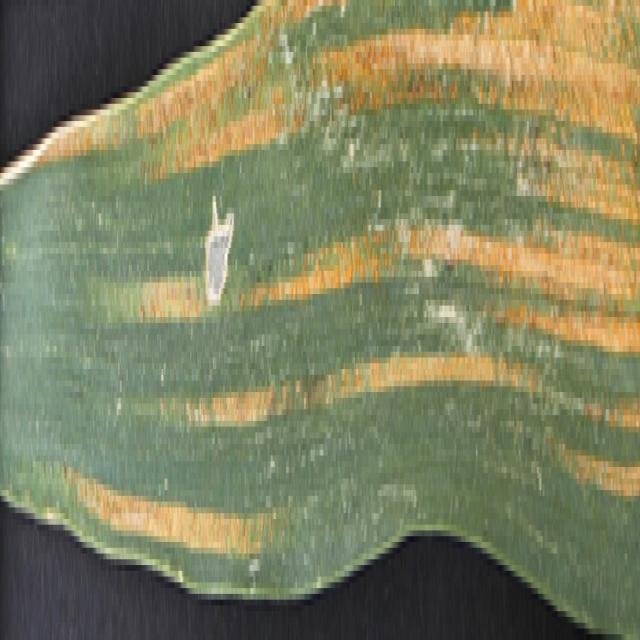leaf rust: (27, 6, 640, 559)
